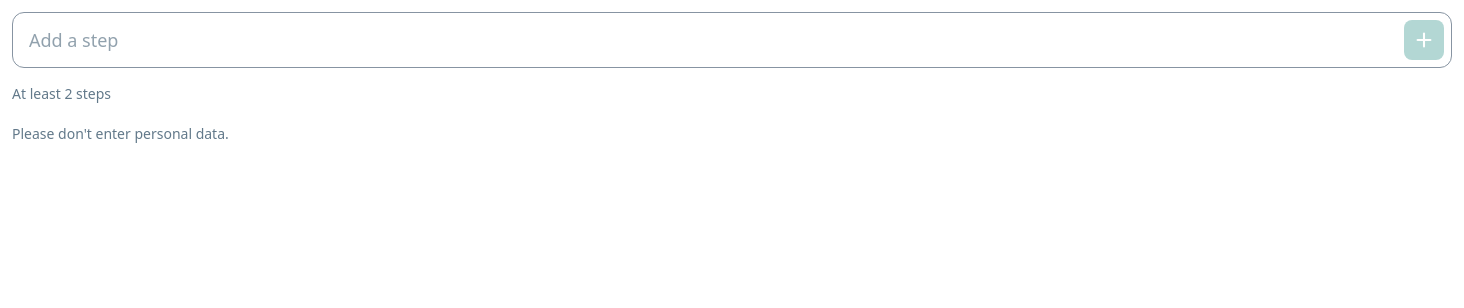
Test case: TraceEditor (free) › adds steps with Enter and with the add button, trims and clears the input
The image size is (1464, 308).
Type "  Wake   up " into the dropdown with test id "trace-input". click: (732, 40)
box: [12,12,1452,68]
Then press Enter
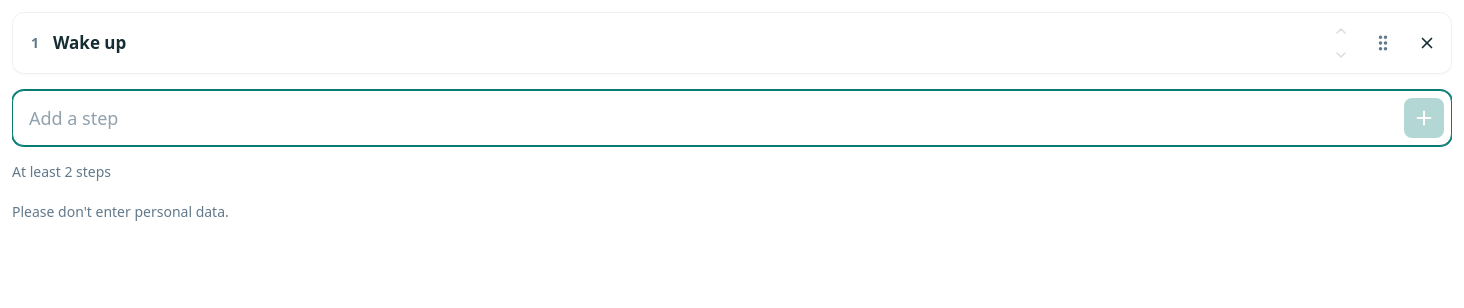
Type "Shower" into the dropdown with test id "trace-input". click: (732, 118)
box: [12,90,1452,146]
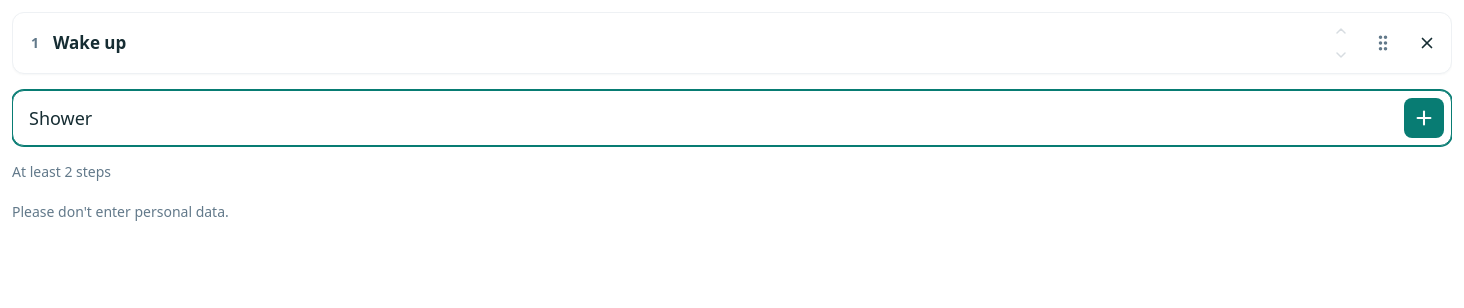
Click the button with test id "trace-add". click: click(1424, 118)
box: [1404,98,1444,138]
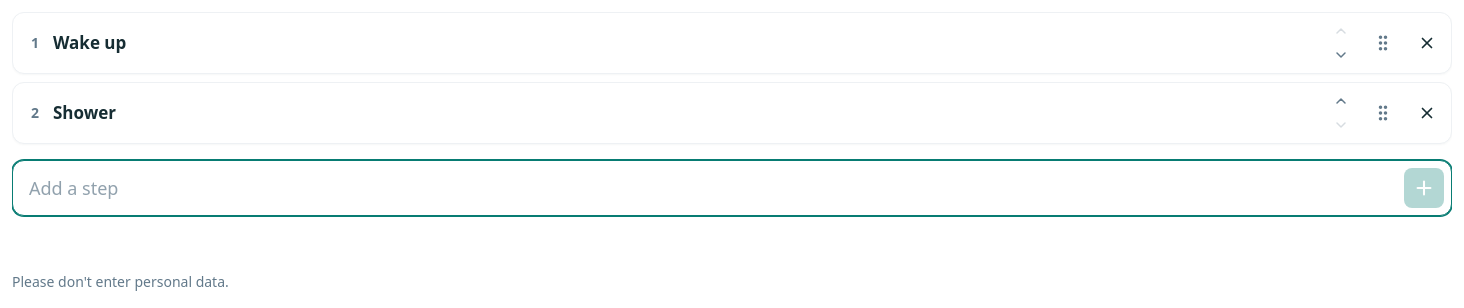
Expected: the number of list items with test id "trace-item" is 2, [12,12,1452,74]; [12,82,1452,144]
Expected: the dropdown with test id "trace-input" is empty, [12,160,1452,216]
